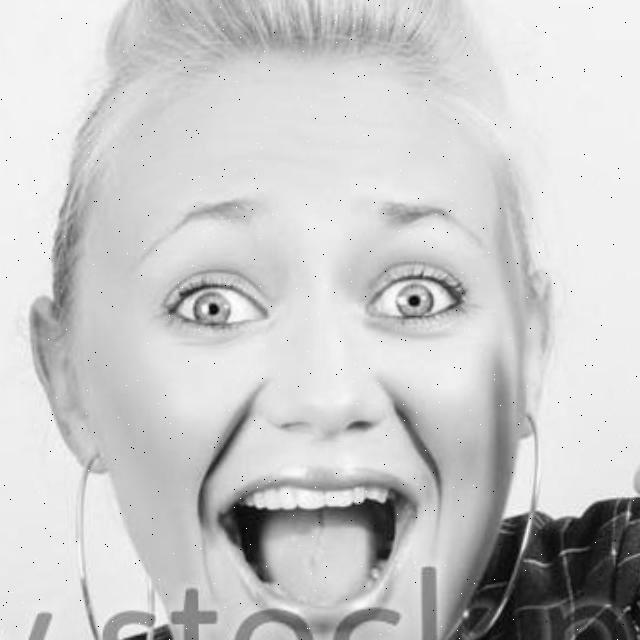Happiness: (11, 1, 568, 640)
